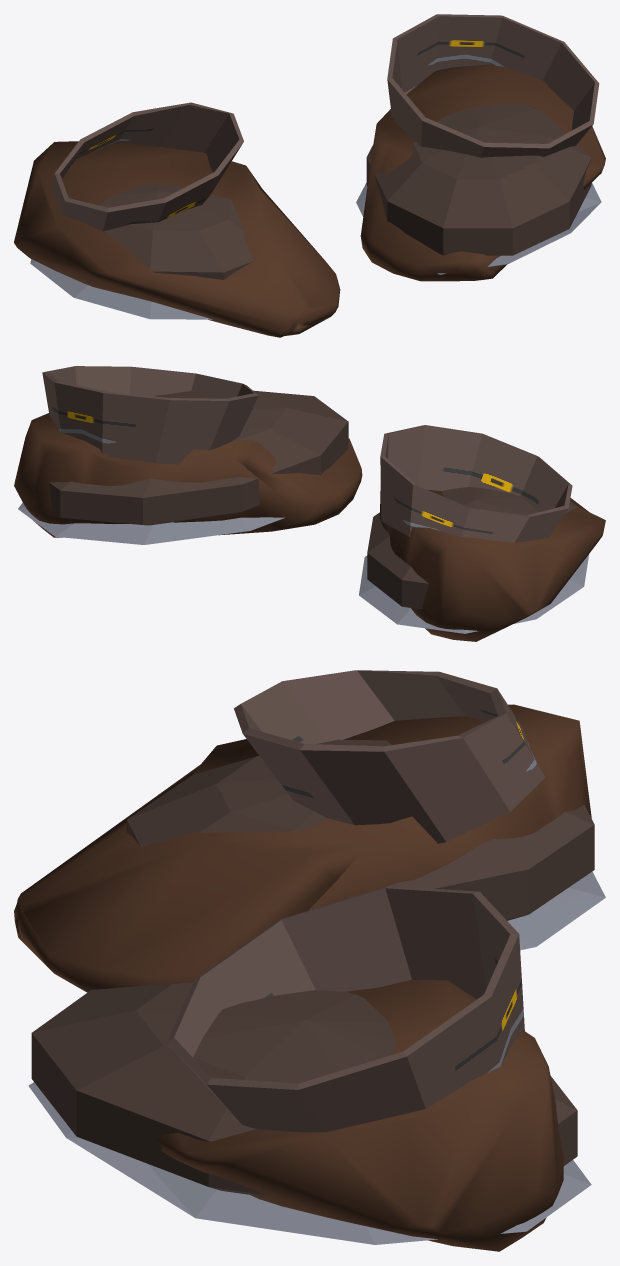
The model's file is side_step_boots_1.glb.
3 views of the same model, one above another, from view 1: azimuth 30°, elevation 25°; view 2: azimuth 150°, elevation 25°; view 3: azimuth 270°, elevation 25° (orthographic). The views are drawn at different scales.
Visible parts, largest first — view 1: display_side_step_boots_wear_side_step_boots_R, display_side_step_boots_wear_side_step_boots_L_shell, display_side_step_boots_wear_side_step_boots_L, display_side_step_boots_wear_side_step_boots_R_shell; view 2: display_side_step_boots_wear_side_step_boots_R, display_side_step_boots_wear_side_step_boots_L, display_side_step_boots_wear_side_step_boots_R_shell, display_side_step_boots_wear_side_step_boots_L_shell; view 3: display_side_step_boots_wear_side_step_boots_R, display_side_step_boots_wear_side_step_boots_L, display_side_step_boots_wear_side_step_boots_L_shell, display_side_step_boots_wear_side_step_boots_R_shell.
Part boxes in pixels (x1,y1,x2,y2): display_side_step_boots_wear_side_step_boots_R: (356,14,601,274); display_side_step_boots_wear_side_step_boots_L_shell: (14,141,340,337); display_side_step_boots_wear_side_step_boots_L: (30,102,253,319); display_side_step_boots_wear_side_step_boots_R_shell: (360,64,605,281); display_side_step_boots_wear_side_step_boots_R: (18,366,348,544); display_side_step_boots_wear_side_step_boots_L: (359,425,589,633); display_side_step_boots_wear_side_step_boots_R_shell: (14,413,362,537); display_side_step_boots_wear_side_step_boots_L_shell: (379,485,605,641); display_side_step_boots_wear_side_step_boots_R: (28,886,591,1244); display_side_step_boots_wear_side_step_boots_L: (126,670,605,950); display_side_step_boots_wear_side_step_boots_L_shell: (14,704,591,992); display_side_step_boots_wear_side_step_boots_R_shell: (155,979,563,1251).
Bounding box in the file's own units: 0.82 × 0.219 × 0.4588.
6 materials, 2 textured.
